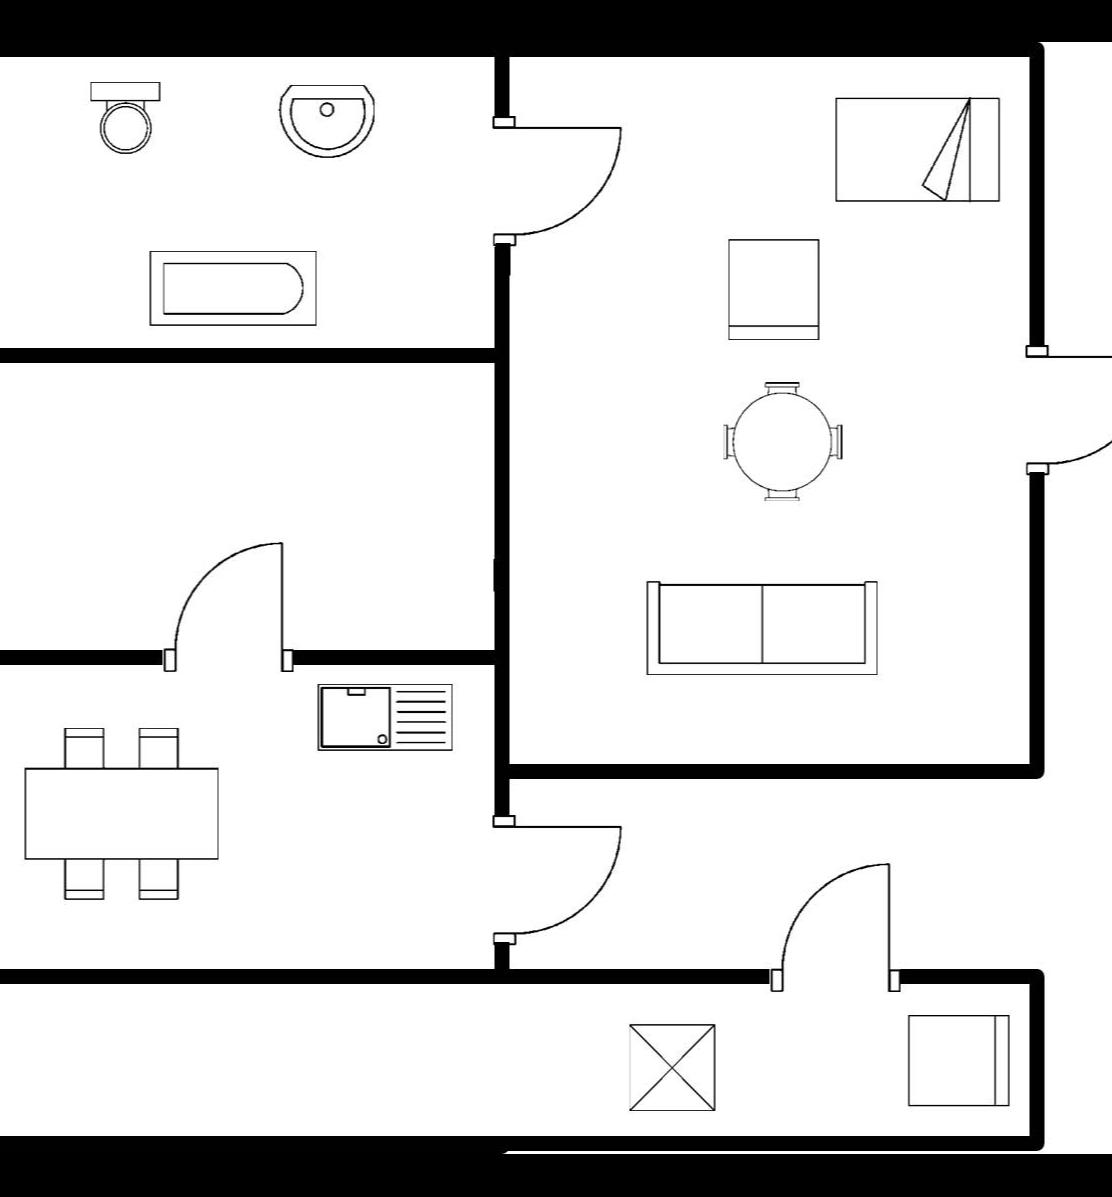bed: (824, 86, 1009, 213)
dining_table: (13, 719, 230, 912), (638, 575, 887, 688)
round_table: (715, 377, 852, 512)
sink: (308, 677, 461, 759)
toilet: (80, 77, 165, 162)
tub: (140, 241, 324, 337)
